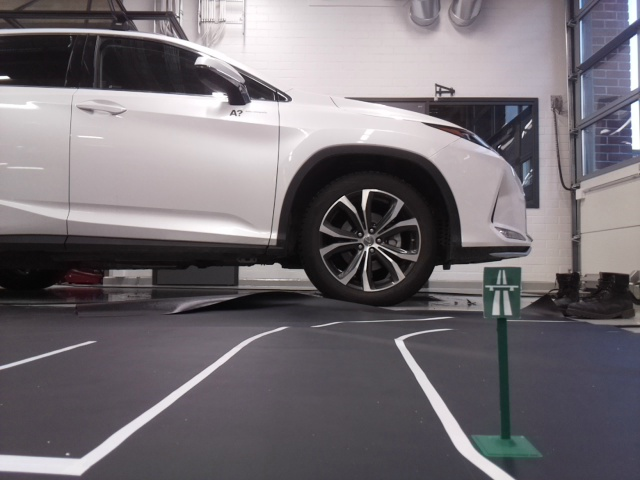HighwayEntrance: (483, 266, 520, 316)
